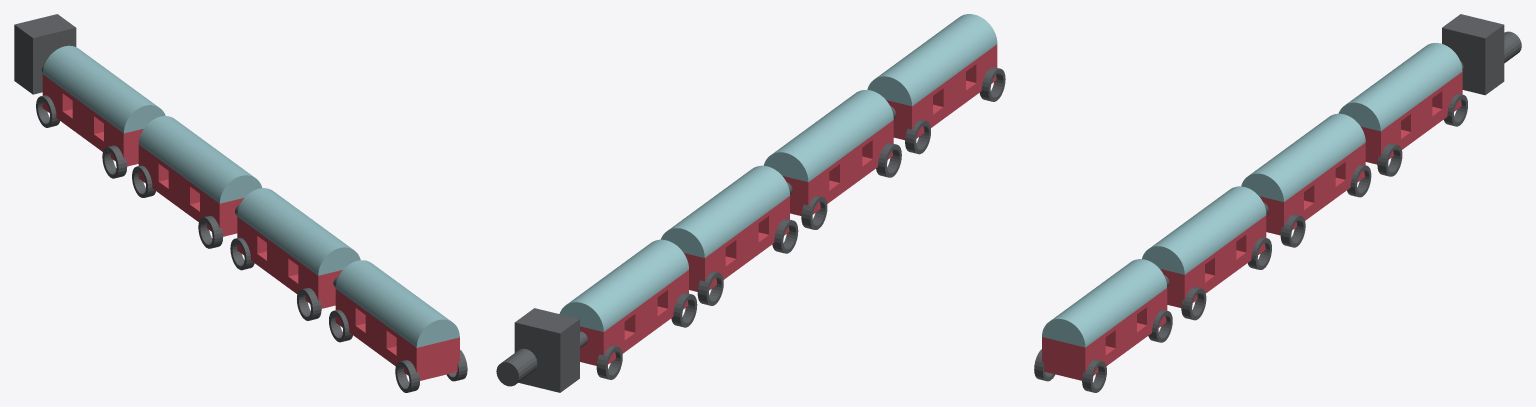
Rendered from PRO-150.glb.
The picture shows the model from 3 angles, left to right: view 1: azimuth 30°, elevation 25°; view 2: azimuth 150°, elevation 25°; view 3: azimuth 330°, elevation 25°; orthographic projection. The views are drawn at different scales.
Visible parts, largest first — view 1: Mesh_Mesh_head_geo.001_lambert2SG.001; view 2: Mesh_Mesh_head_geo.001_lambert2SG.001; view 3: Mesh_Mesh_head_geo.001_lambert2SG.001.
Part boxes in pixels (x1,y1,x2,y2): Mesh_Mesh_head_geo.001_lambert2SG.001: (14,14,467,392); Mesh_Mesh_head_geo.001_lambert2SG.001: (496,14,1005,392); Mesh_Mesh_head_geo.001_lambert2SG.001: (1034,14,1521,392).
Size of the model in its own units: 26 by 31 by 343.
